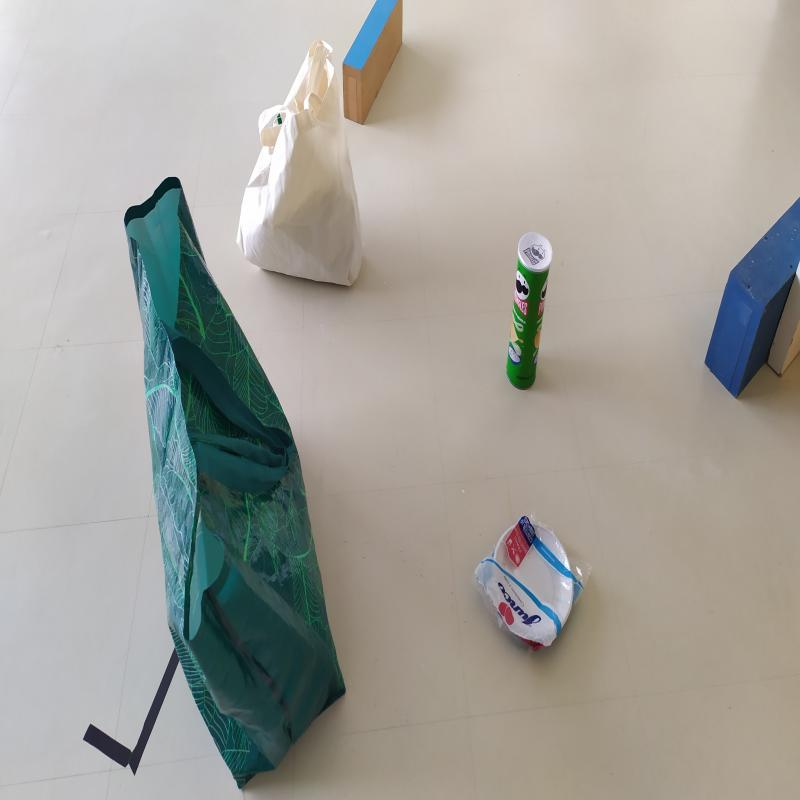Bag: (118, 172, 342, 800), (238, 41, 368, 294)
Plate: (491, 517, 575, 648)
Pringles: (507, 229, 554, 391)
